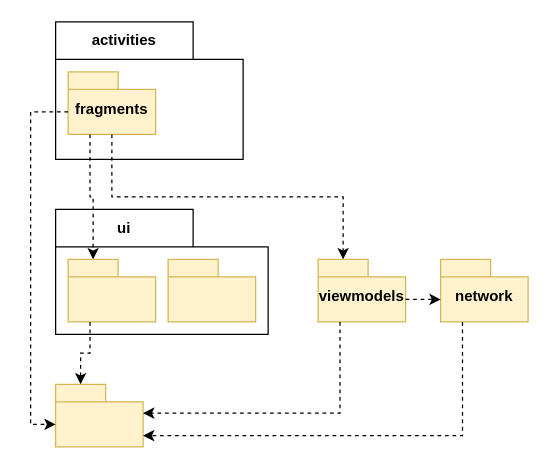
This 550x469 diagram has some shape labels left out. Here are the shapes that lost their labels. From the top down, the box of each, then its label:
(67, 258, 156, 322): adapters
(167, 258, 256, 322): theme
(54, 383, 143, 447): models
